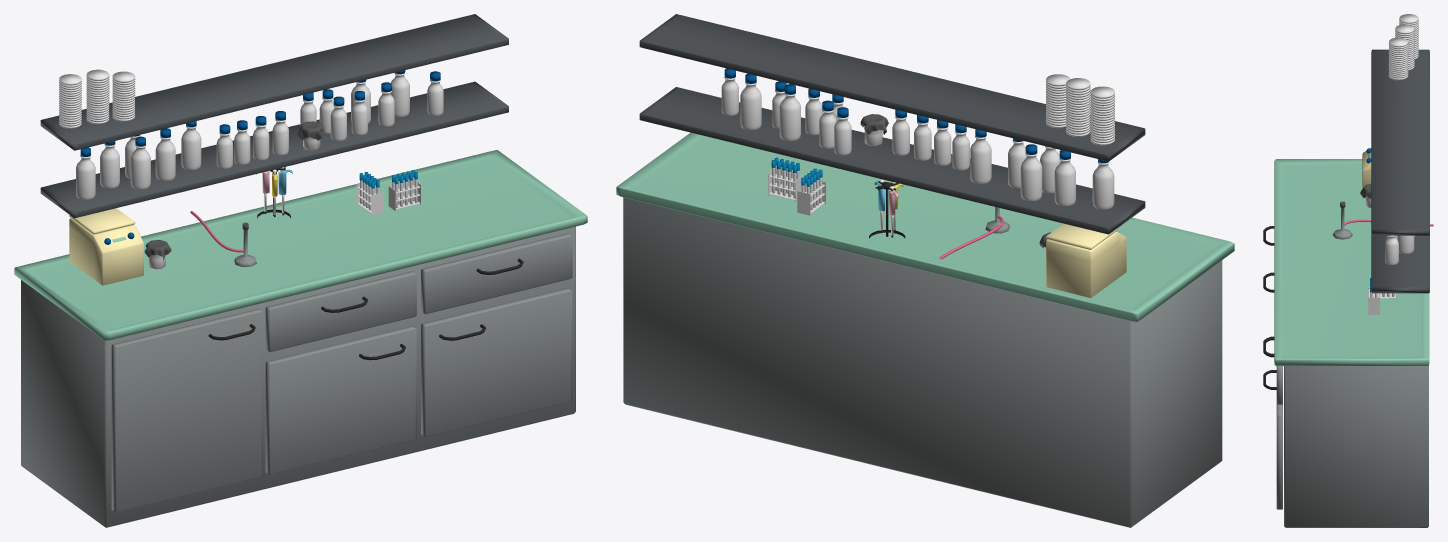
Rendered from szene5_pastell&schatten.fbx.
3 renders of one model, left to right at view 1: azimuth 30°, elevation 25°; view 2: azimuth 150°, elevation 25°; view 3: azimuth 270°, elevation 25°, orthographic. The views are drawn at different scales.
Visible parts, largest first — view 1: Torus.000, Torus.004, Torus.002, Cube, Circle.003, Circle.011, Circle.012, Torus.006, inhalt.002, inhalt.005, inhalt, Icosphere.002 (+5 smaller); view 2: Torus.000, Torus.004, Torus.002, Cube, Circle.011, Circle.003, inhalt.003, Circle.012, inhalt.006, inhalt.007, inhalt.001, inhalt.004 (+9 smaller); view 3: Torus.000, Torus.004, Torus.002, Circle.012, Circle.003, Torus.006, inhalt_klein.001, Circle.011, Cube, inhalt.007, Circle.013, Plane.004.
Part boxes in pixels (x1,y1,x2,y2): Torus.000: (21, 226, 575, 527); Torus.004: (14, 150, 587, 340); Torus.002: (40, 14, 508, 218); Cube: (69, 208, 143, 285); Circle.003: (86, 69, 109, 124); Circle.011: (59, 74, 81, 128); Circle.012: (112, 71, 135, 121); Torus.006: (208, 258, 523, 360); inhalt.002: (130, 136, 150, 189); inhalt.005: (155, 128, 175, 180); inhalt: (76, 147, 95, 199); Icosphere.002: (256, 167, 292, 218); Torus.000: (623, 197, 1222, 527); Torus.004: (616, 132, 1234, 321); Torus.002: (639, 14, 1145, 234); Cube: (1046, 223, 1126, 297); Circle.011: (1090, 86, 1114, 145); Circle.003: (1066, 78, 1090, 136); inhalt.003: (1020, 144, 1042, 201); Circle.012: (1046, 74, 1070, 128); inhalt.006: (779, 84, 800, 140); inhalt.007: (740, 73, 761, 130); inhalt.001: (1054, 150, 1075, 206); inhalt.004: (970, 129, 991, 183); Torus.000: (1276, 366, 1428, 527); Torus.004: (1274, 159, 1429, 365); Torus.002: (1371, 49, 1429, 293); Circle.012: (1388, 37, 1408, 80); Circle.003: (1395, 24, 1414, 70); Torus.006: (1263, 226, 1276, 389); inhalt_klein.001: (1385, 235, 1398, 264); Circle.011: (1399, 14, 1418, 59); Cube: (1362, 148, 1371, 197); inhalt.007: (1397, 235, 1414, 254); Circle.013: (1332, 201, 1352, 239); Plane.004: (1368, 287, 1379, 314).
Size of the model in its own units: 262 by 201 by 93.79.
